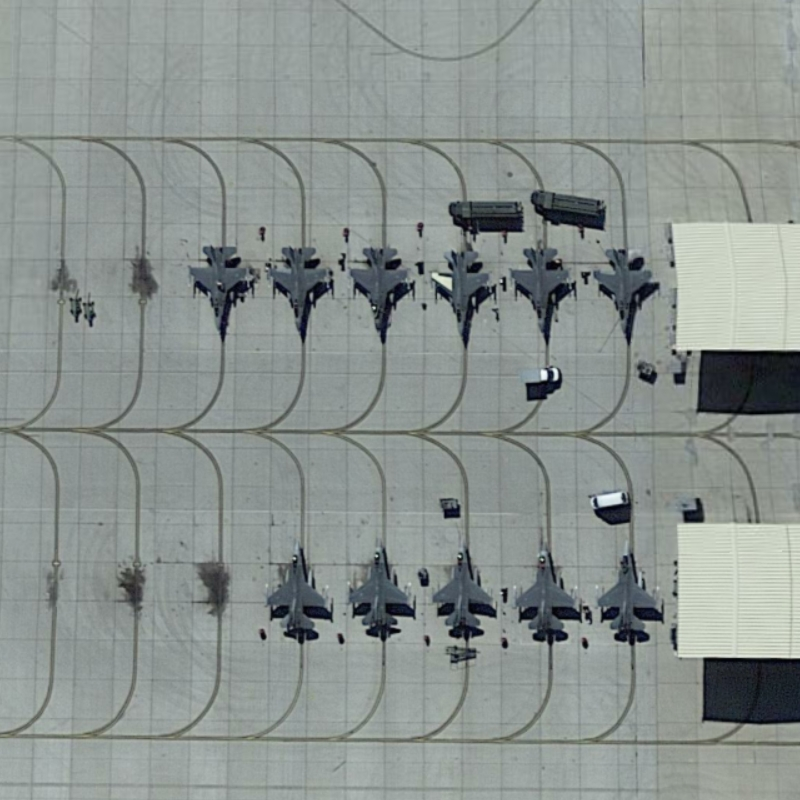A5: (258, 532, 344, 648), (585, 239, 668, 350), (509, 531, 587, 648), (339, 533, 421, 644), (182, 236, 263, 347), (262, 234, 339, 350), (421, 239, 499, 351), (507, 239, 585, 349), (425, 533, 505, 639), (592, 528, 665, 644), (345, 239, 420, 348)
